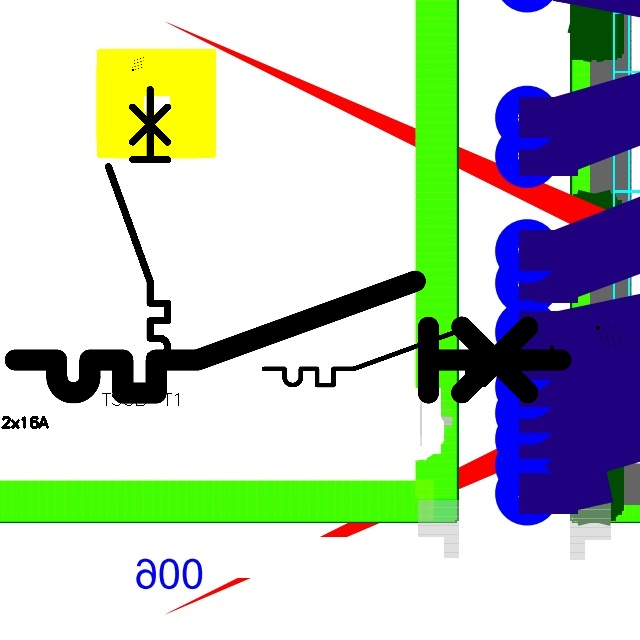interruptor_termomagnetico: (1, 267, 575, 407), (101, 82, 175, 385), (257, 323, 540, 392)
